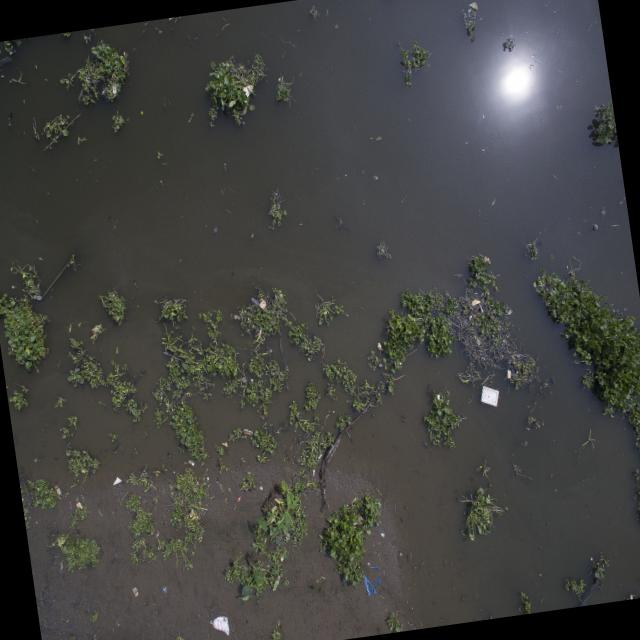Plastic: (362, 563, 386, 596), (204, 614, 232, 639), (478, 382, 502, 408), (102, 82, 118, 99), (251, 295, 266, 312), (470, 296, 484, 314), (243, 82, 256, 98), (112, 475, 124, 486), (506, 368, 512, 379), (76, 502, 83, 509)
